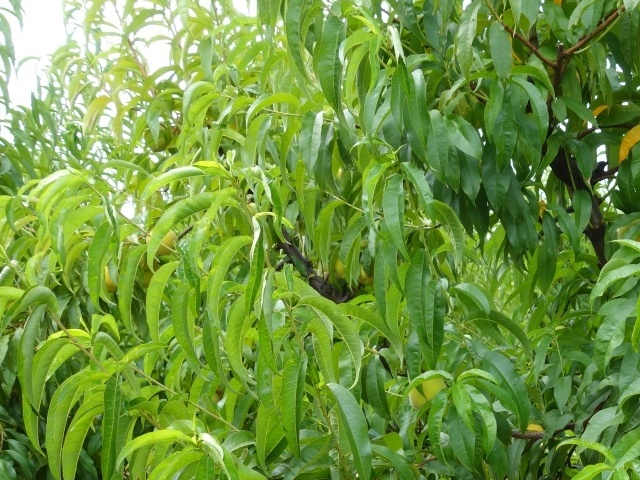peach: (404, 366, 457, 410), (144, 226, 183, 254)
